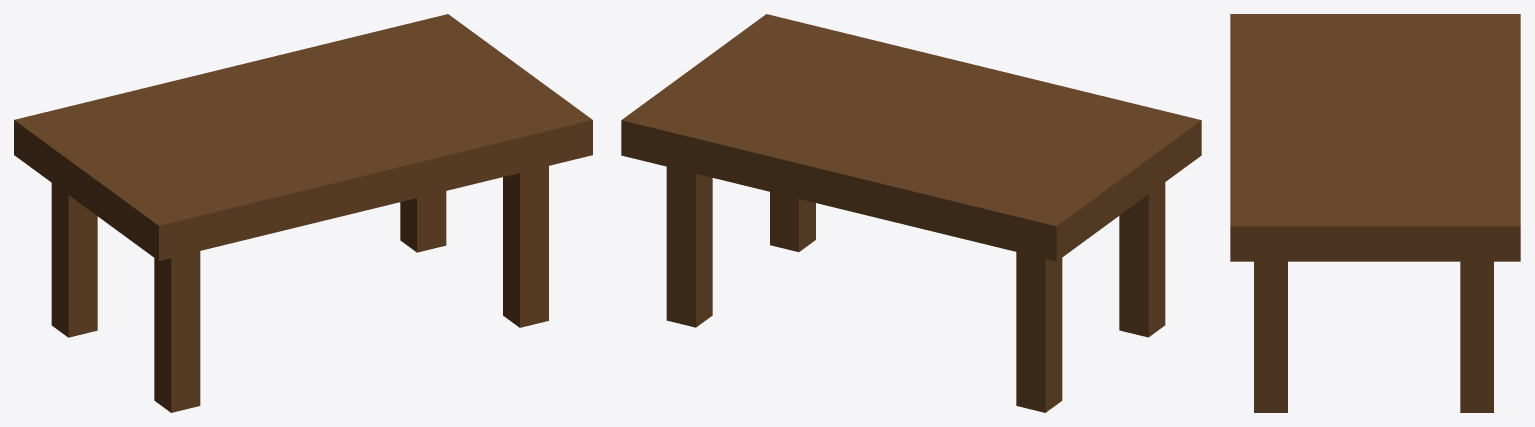
File: Table.fbx
The picture shows the model from 3 angles, left to right: view 1: azimuth 30°, elevation 25°; view 2: azimuth 150°, elevation 25°; view 3: azimuth 270°, elevation 25°; orthographic projection.
Parts seen in each view (by area): view 1: Table; view 2: Table; view 3: Table.
Boxes of the visible parts, bbox=[...] form: Table: bbox=[14, 14, 592, 412]; Table: bbox=[621, 14, 1201, 412]; Table: bbox=[1230, 14, 1520, 412].
Size of the model in its own units: 1.48 by 0.6568 by 0.8542.
